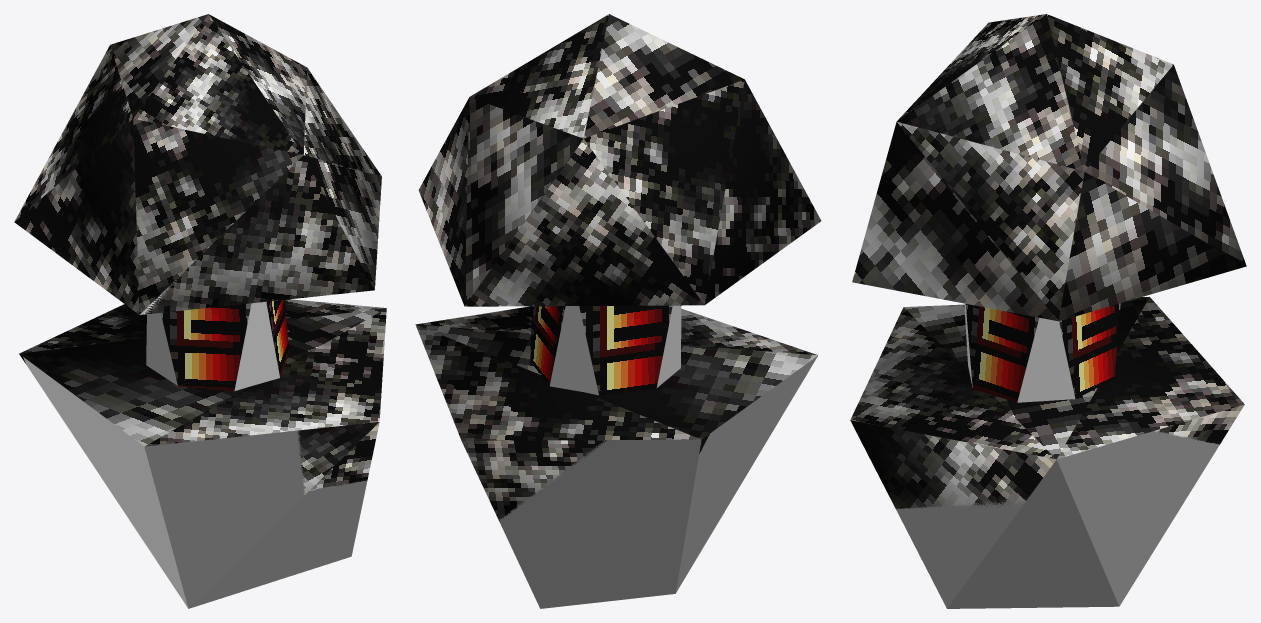
Rendered from fake_asteroid.fbx.
The picture shows the model from 3 angles, left to right: view 1: azimuth 30°, elevation 25°; view 2: azimuth 150°, elevation 25°; view 3: azimuth 270°, elevation 25°; orthographic projection. The views are drawn at different scales.
Visible parts, largest first — view 1: greyT, fake asteroid, greyB, redlight; view 2: greyT, fake asteroid, greyB, redlight; view 3: greyT, greyB, fake asteroid, redlight.
Boxes of the visible parts, x1,y1,x2,y2 form: greyT: (14, 14, 381, 314); fake asteroid: (23, 268, 367, 608); greyB: (19, 299, 386, 494); redlight: (161, 300, 289, 391); greyT: (418, 14, 821, 306); fake asteroid: (499, 305, 817, 608); greyB: (415, 306, 817, 521); redlight: (530, 305, 672, 395); greyT: (852, 14, 1246, 321); greyB: (850, 296, 1244, 508); fake asteroid: (896, 303, 1219, 608); redlight: (965, 303, 1120, 402).
Bounding box in the file's own units: 20728 × 34472 × 21124.
